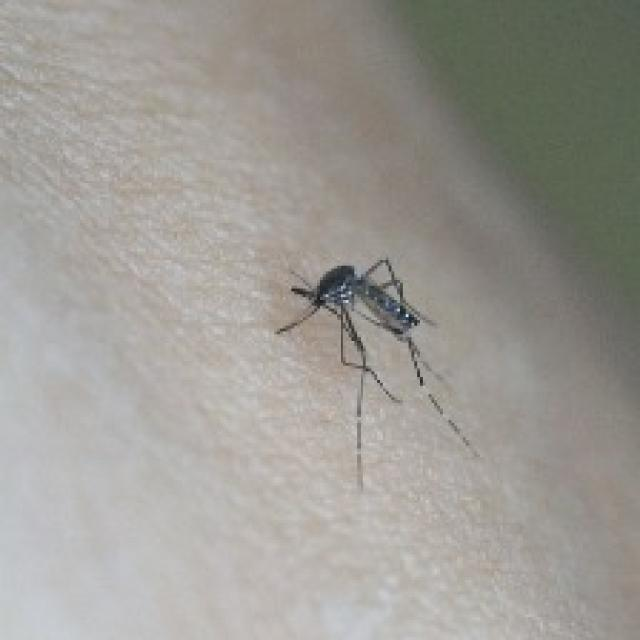aedes: (272, 254, 477, 492)
